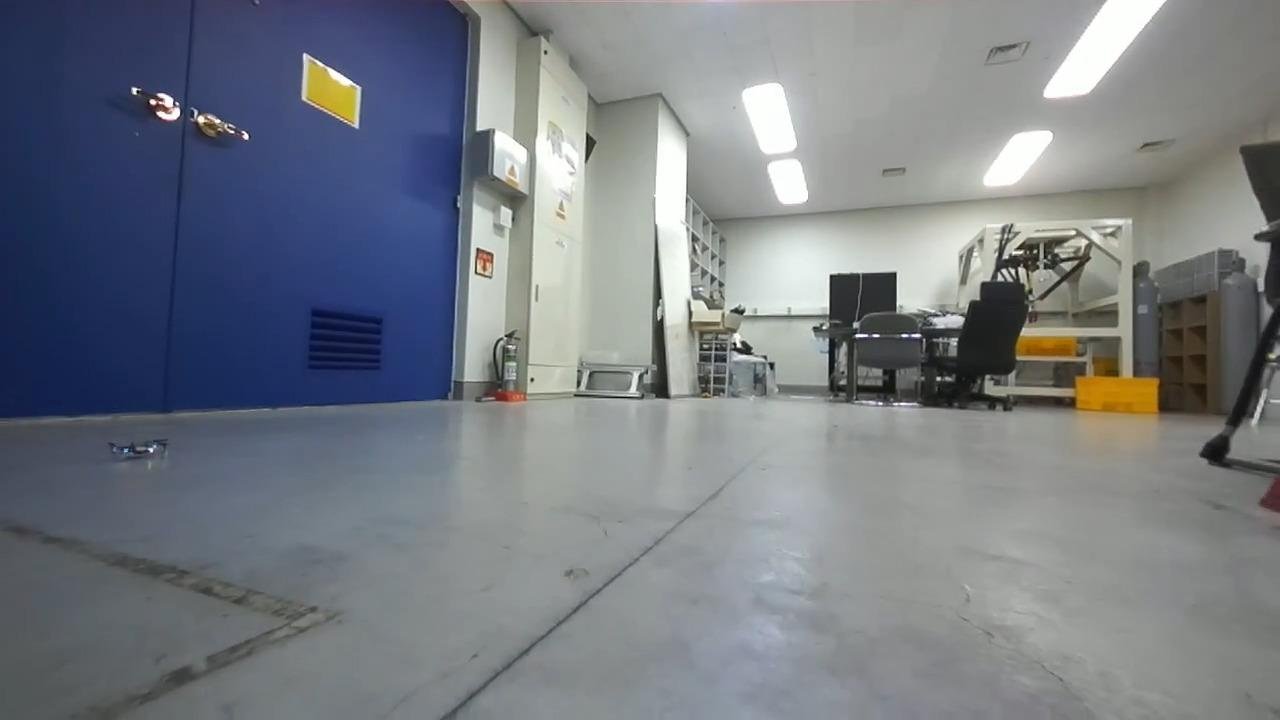crazyflie: (98, 434, 174, 465)
